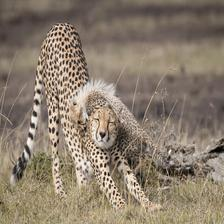Cheetah: (10, 22, 165, 214), (70, 80, 169, 165)
